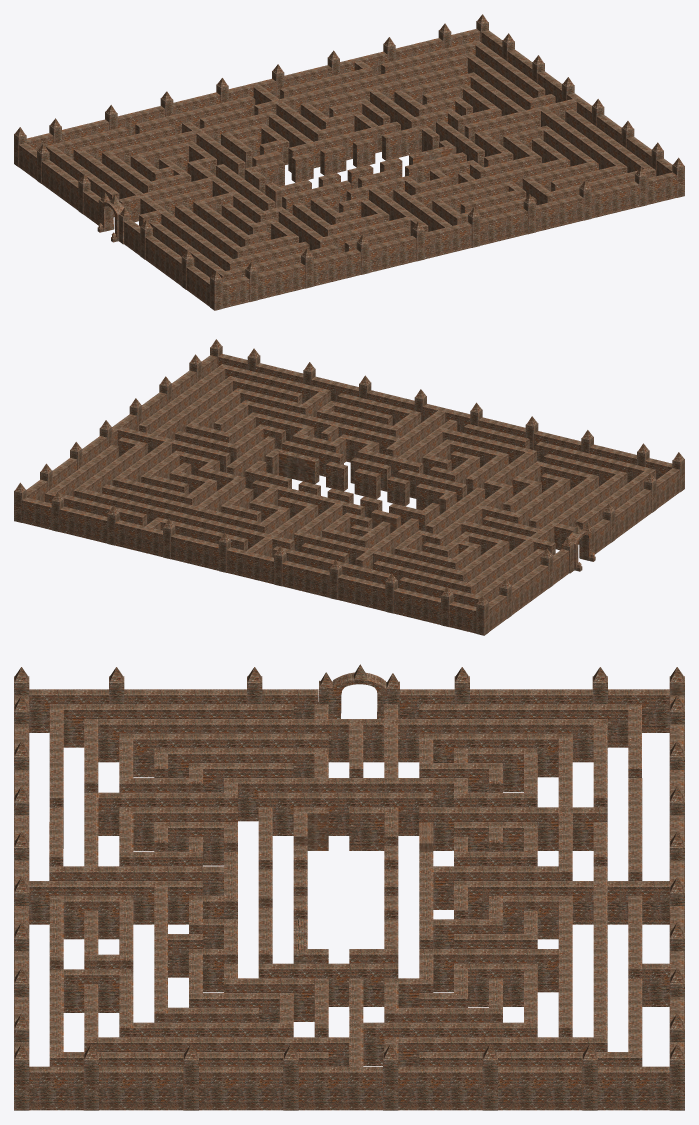
The picture shows the model from 3 angles, top to bottom: view 1: azimuth 30°, elevation 25°; view 2: azimuth 150°, elevation 25°; view 3: azimuth 270°, elevation 25°; orthographic projection. The views are drawn at different scales.
Parts seen in each view (by area): view 1: Maze.007, Maze.002, Column.006, Maze.006, Maze.014, Maze.044, Maze.008, Cube.002, Column.008, Maze.046, Maze.068, Maze.052 (+69 smaller); view 2: Maze.002, Maze.007, Column.008, Maze.006, Maze.014, Maze.044, Maze.008, Cube.002, Maze.046, Column.006, Maze.068, Maze.052 (+69 smaller); view 3: Maze.006, Maze.014, Column.005, Maze.057, Maze.008, Cube.002, Maze.032, Maze.045, Maze.051, Maze.048, Maze.082, Maze.009 (+84 smaller).
Part boxes in pixels (<box>): Maze.007: <box>222,172,676,308</box>; Maze.002: <box>26,29,480,150</box>; Column.006: <box>245,167,647,301</box>; Maze.006: <box>481,30,672,175</box>; Maze.014: <box>73,148,232,271</box>; Maze.044: <box>254,54,467,115</box>; Maze.008: <box>124,220,209,306</box>; Cube.002: <box>19,143,100,224</box>; Column.008: <box>49,23,451,143</box>; Maze.046: <box>102,111,275,166</box>; Maze.068: <box>300,64,467,117</box>; Maze.052: <box>411,157,570,210</box>; Maze.002: <box>22,497,476,633</box>; Maze.007: <box>218,354,672,479</box>; Column.008: <box>51,492,453,626</box>; Maze.006: <box>26,355,217,501</box>; Maze.014: <box>463,474,623,594</box>; Maze.044: <box>81,489,294,556</box>; Maze.008: <box>592,468,679,554</box>; Cube.002: <box>489,549,569,631</box>; Maze.046: <box>293,531,467,582</box>; Column.006: <box>247,348,649,466</box>; Maze.068: <box>102,484,268,533</box>; Maze.052: <box>241,400,400,454</box>; Maze.006: <box>29,1066,669,1110</box>; Maze.014: <box>98,719,607,762</box>; Column.005: <box>83,1044,597,1110</box>; Maze.057: <box>454,881,670,924</box>; Maze.008: <box>29,689,318,732</box>; Cube.002: <box>399,689,669,732</box>; Maze.032: <box>258,792,433,835</box>; Maze.045: <box>419,807,607,850</box>; Maze.051: <box>28,881,202,924</box>; Maze.048: <box>84,1037,349,1066</box>; Maze.082: <box>224,778,467,821</box>; Maze.009: <box>63,704,293,747</box>.
Bounding box in the file's own units: 65.94 × 5.24 × 48.1.
Materials: 1 (1 with a texture image).
